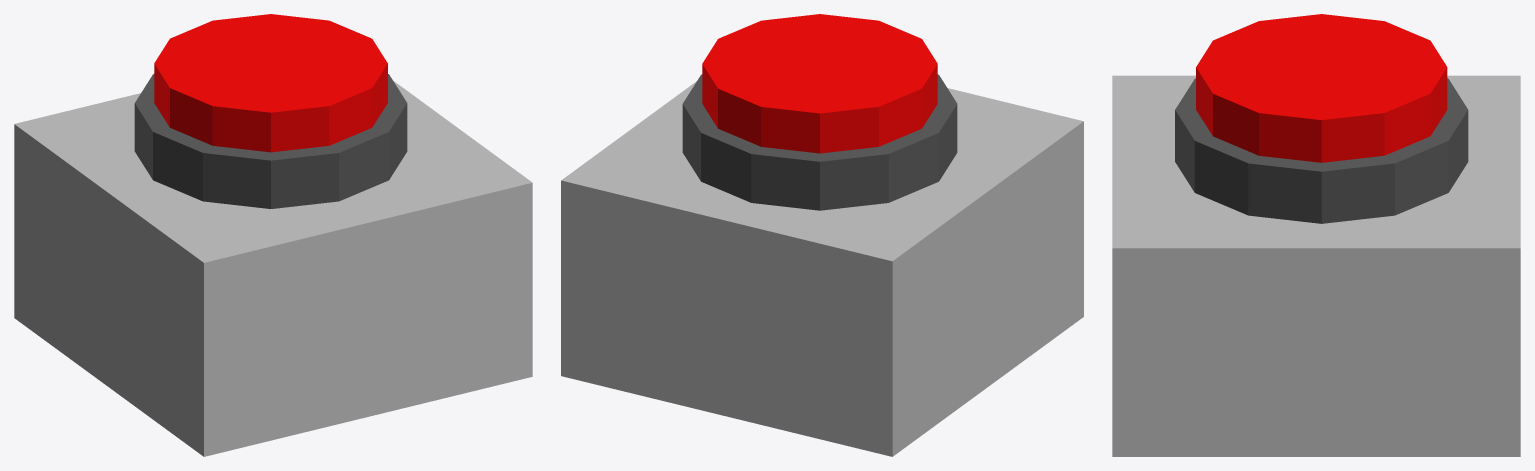
Rendered from button.obj.
The picture shows the model from 3 angles, left to right: view 1: azimuth 30°, elevation 25°; view 2: azimuth 150°, elevation 25°; view 3: azimuth 270°, elevation 25°; orthographic projection. The views are drawn at different scales.
Visible parts, largest first — view 1: group1593787975.001, group1593787975.002, group1593787975; view 2: group1593787975.001, group1593787975.002, group1593787975; view 3: group1593787975.001, group1593787975.002, group1593787975.
Part boxes in pixels (x1=…): group1593787975.001: x1=14, y1=81, x2=532, y2=456; group1593787975.002: x1=154, y1=14, x2=387, y2=152; group1593787975: x1=134, y1=74, x2=407, y2=208; group1593787975.001: x1=561, y1=81, x2=1083, y2=456; group1593787975.002: x1=702, y1=14, x2=937, y2=153; group1593787975: x1=682, y1=74, x2=957, y2=210; group1593787975.001: x1=1112, y1=75, x2=1520, y2=456; group1593787975.002: x1=1196, y1=14, x2=1447, y2=162; group1593787975: x1=1175, y1=78, x2=1468, y2=223.
Bounding box in the file's own units: 0.78 × 0.65 × 0.78.
